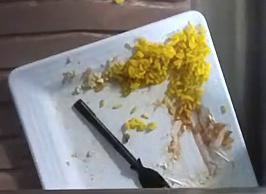rice: (116, 22, 232, 186)
